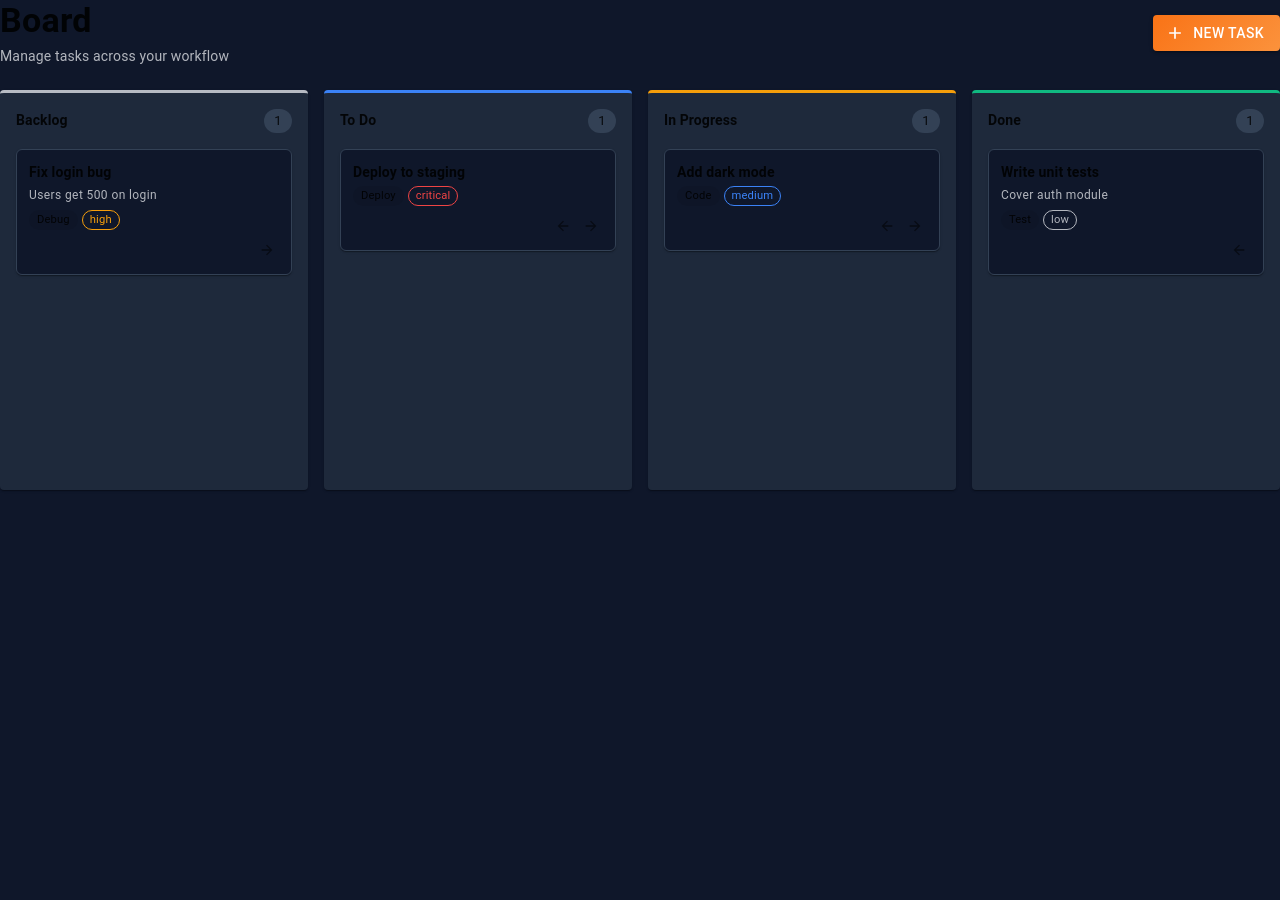
Test: BoardPage › opens create dialog when New Task clicked
Step 1. Click the button "New Task" → (1217, 33), box [1153,15,1279,51]
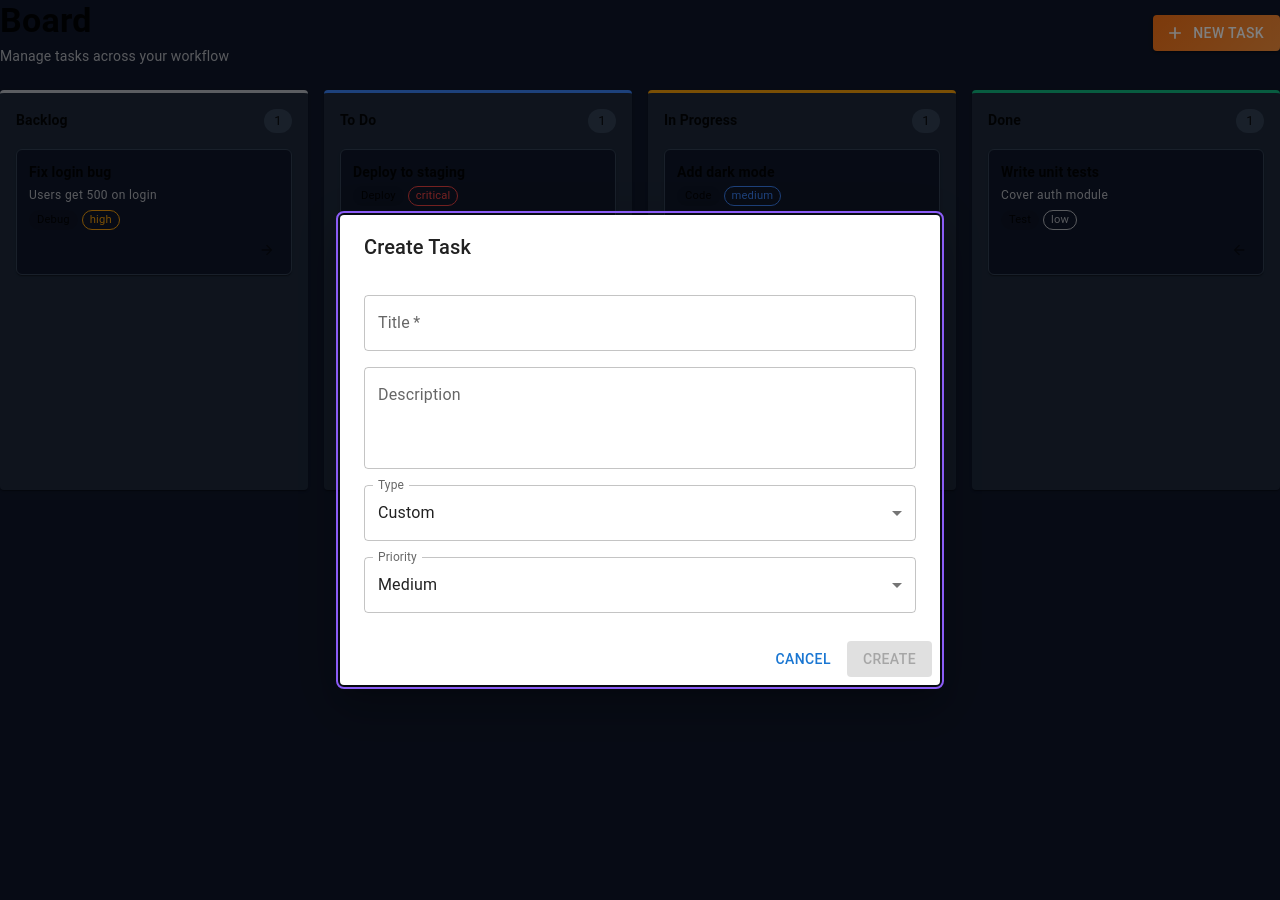
Now the heading "Create Task" is shown, box [364,235,471,259]
Now the field labelled "Title *" is shown, box [364,295,916,351]
